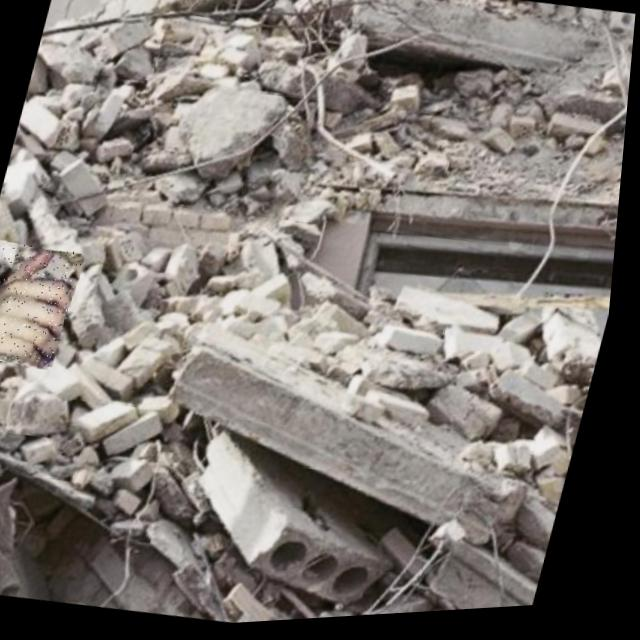Person in Rubble: (0, 236, 89, 373)
